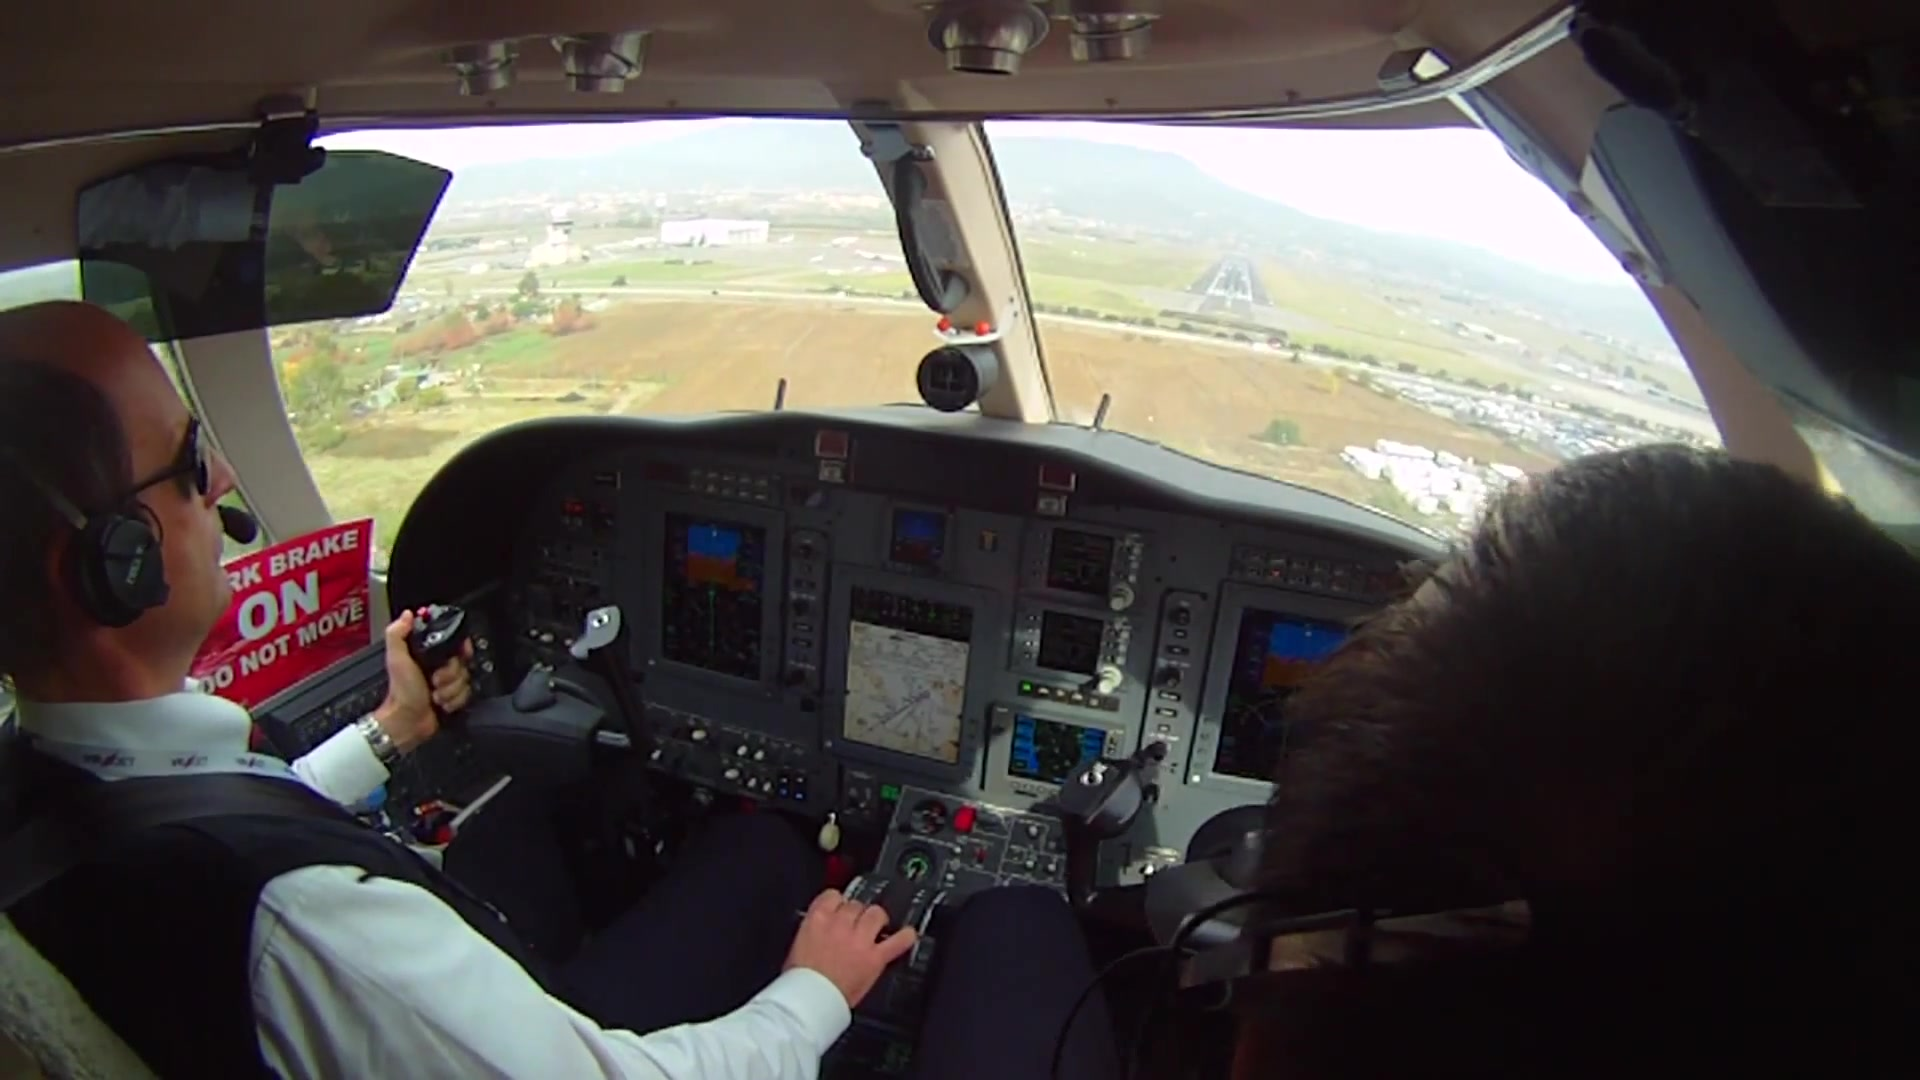entrance: (1209, 286, 1250, 299)
runway: (1208, 252, 1253, 299)
